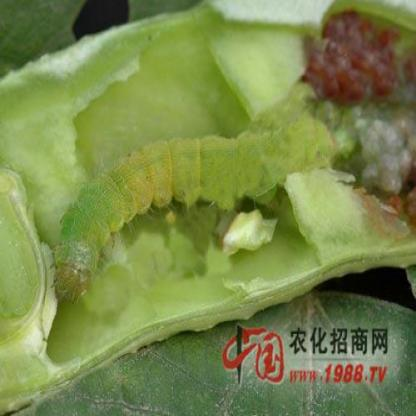armyworm: (45, 105, 354, 305)
